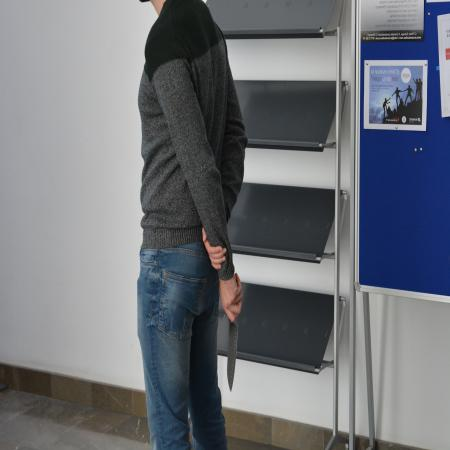long weapon: (225, 310, 241, 396)
